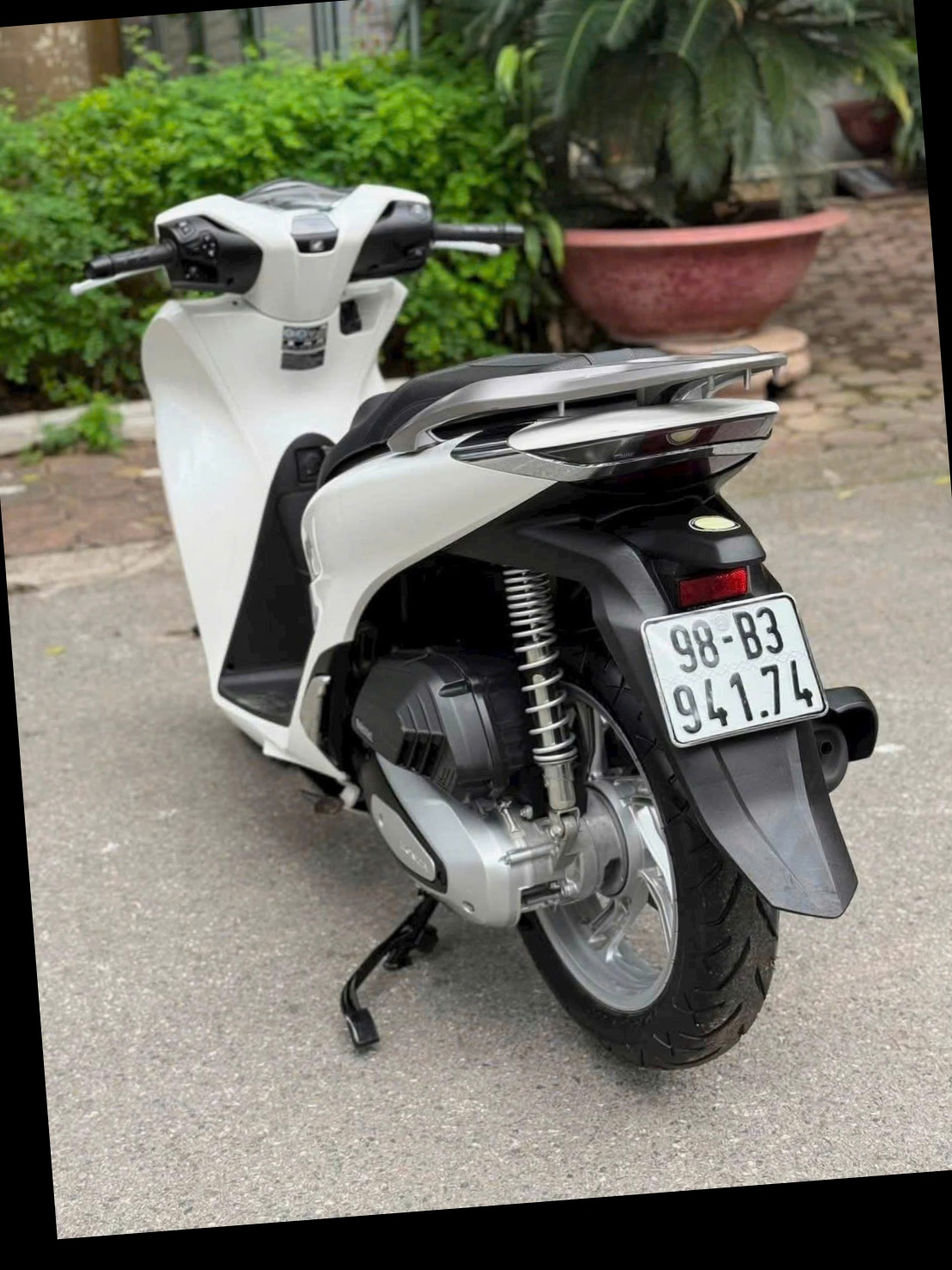Bien-so: (609, 671, 810, 848)
